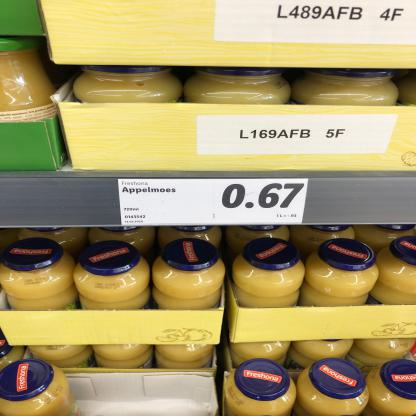prtg: (119, 179, 310, 227)
